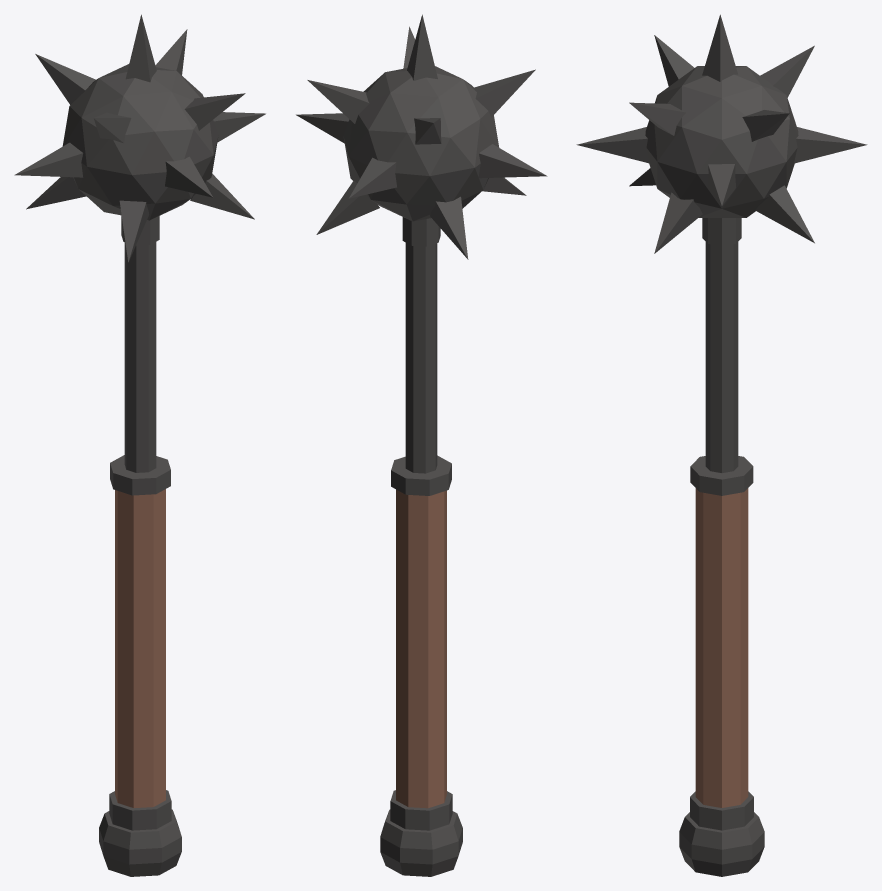
File: Spiked Mace.glb
3 views of the same model, side by side, from view 1: azimuth 30°, elevation 25°; view 2: azimuth 150°, elevation 25°; view 3: azimuth 270°, elevation 25° (orthographic).
Parts seen in each view (by area): view 1: Spiked Mace; view 2: Spiked Mace; view 3: Spiked Mace.
Boxes of the visible parts, <box> form: Spiked Mace: <box>14,14,265,876</box>; Spiked Mace: <box>296,14,547,876</box>; Spiked Mace: <box>576,14,867,876</box>.
Size of the model in its own units: 39.73 by 127 by 39.73.
